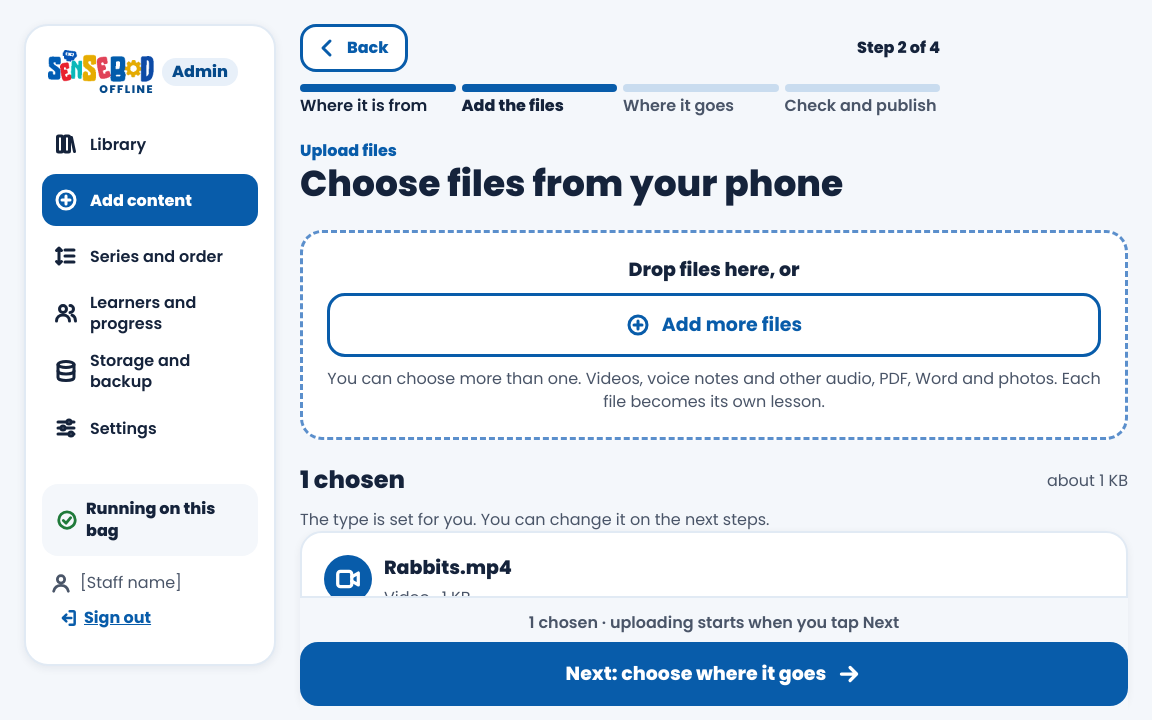
Scenario: upload files › does not send anything twice when Next is tapped twice
The image size is (1152, 720).
Earlier steps of the test are not shown.
Click the button "Next: choose where it goes": (714, 674) [300,642,1128,706]
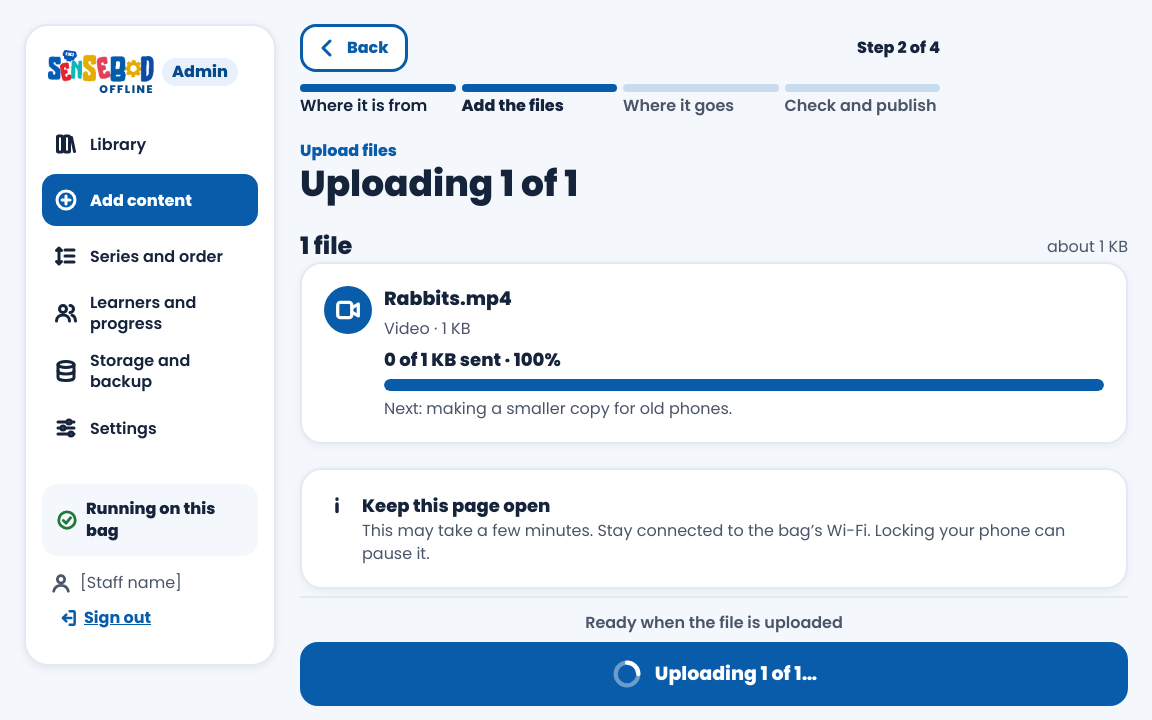
Click the button named "Next: choose where it goes": (714, 674) [300,642,1128,706]
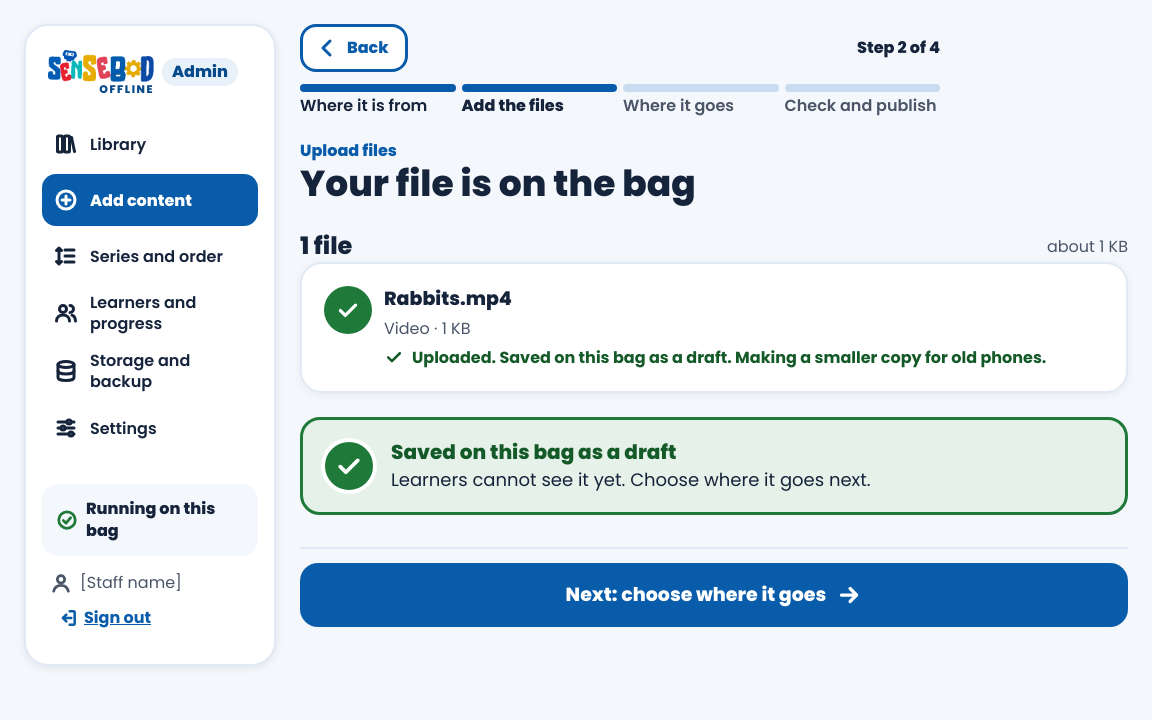
Expected: the link "Next: choose where it goes" is shown, [300,563,1128,627]
